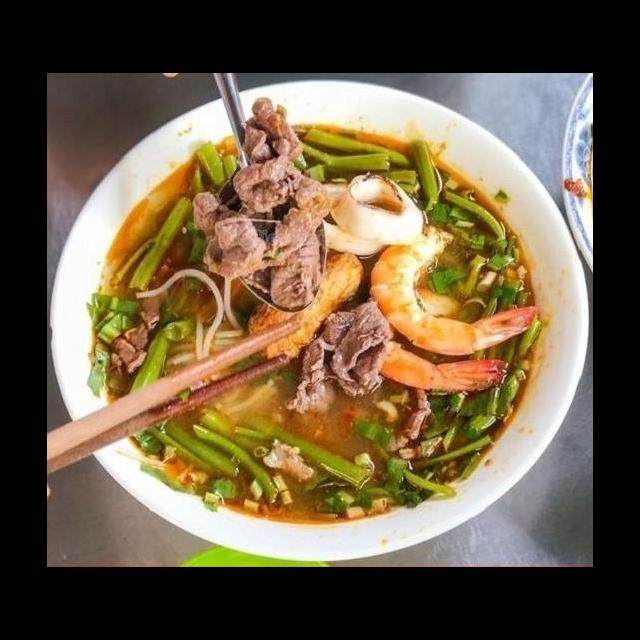bun: (130, 262, 258, 371)
bun hai san: (62, 101, 570, 546)
muc: (325, 168, 429, 248)
thit heo: (182, 153, 348, 281), (282, 298, 399, 418), (257, 208, 326, 311), (236, 94, 312, 177)
tom: (365, 218, 541, 359), (351, 286, 513, 401)
